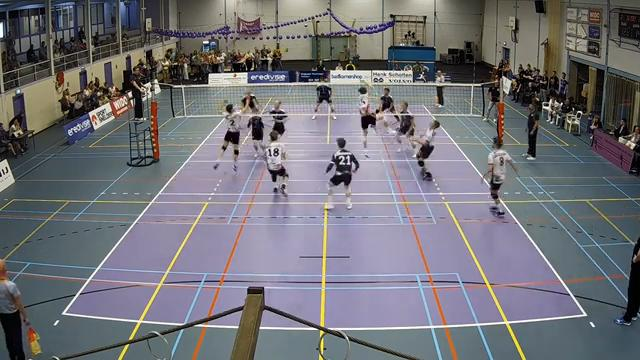Attack: (212, 86, 250, 177)
Player: (483, 137, 518, 216), (326, 138, 359, 208), (411, 120, 439, 180), (264, 131, 288, 196), (358, 87, 376, 157), (395, 101, 414, 148), (312, 79, 334, 119), (376, 88, 395, 133), (248, 114, 264, 157), (270, 100, 287, 135), (241, 90, 258, 112)
